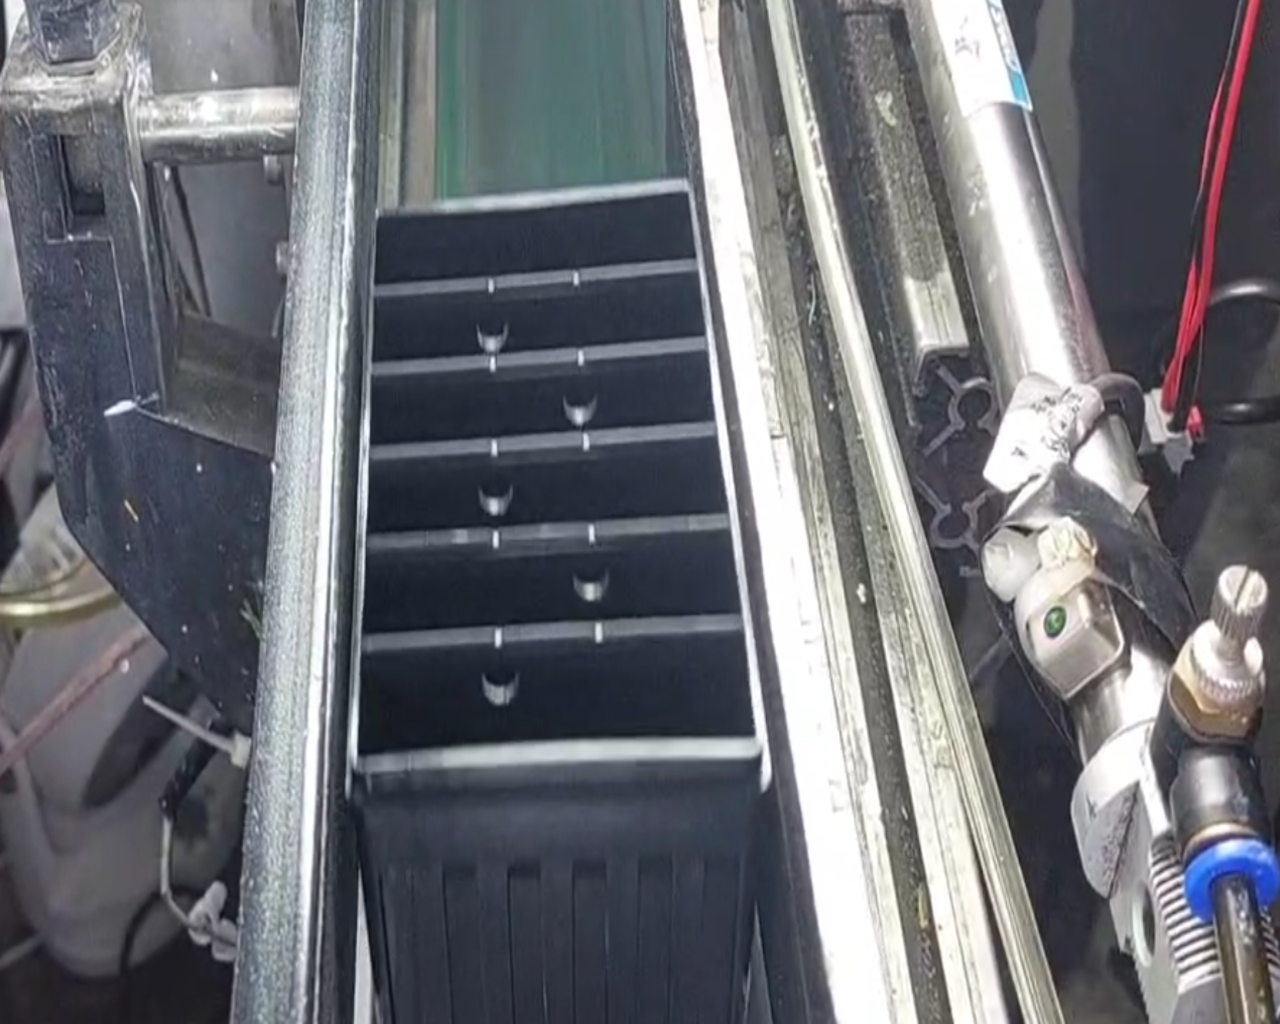box: (325, 154, 796, 817)
round: (459, 646, 538, 719), (457, 456, 537, 528), (556, 547, 630, 621), (448, 304, 528, 368), (546, 372, 616, 437)
